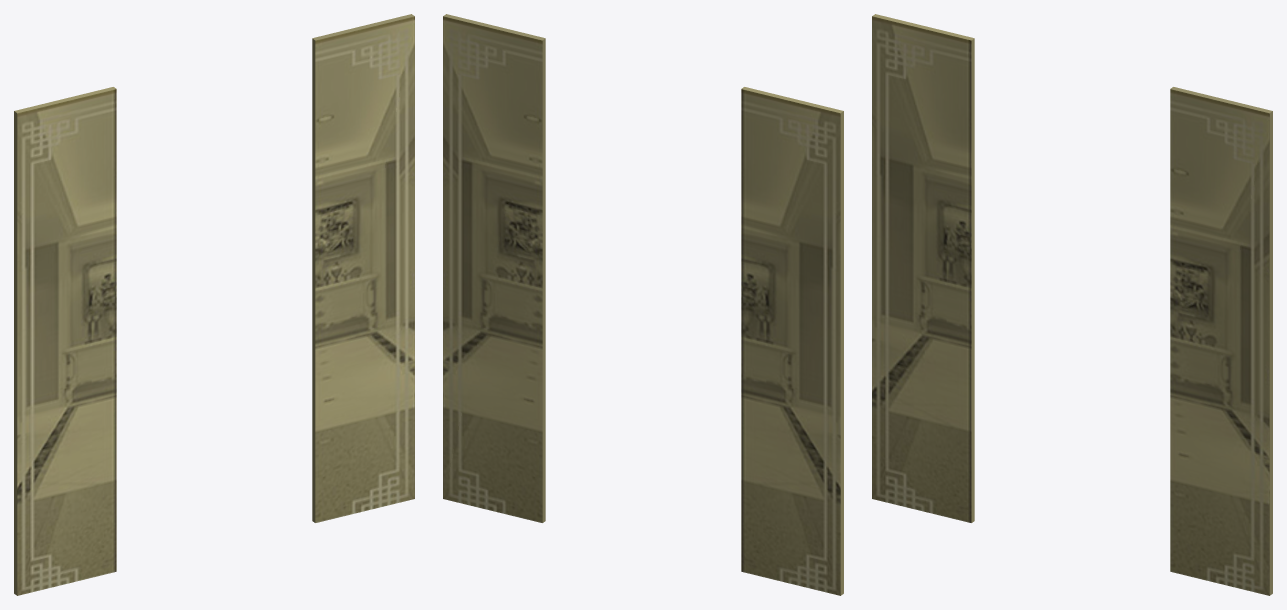
Rendered from landing_door_TM026.glb.
3 views of the same model, side by side, from view 1: azimuth 30°, elevation 25°; view 2: azimuth 150°, elevation 25°; view 3: azimuth 330°, elevation 25° (orthographic).
Visible parts, largest first — view 1: Landing_Door_L, Landing_Door_R; view 2: Landing_Door_L, Landing_Door_R; view 3: Landing_Door_L, Landing_Door_R.
Boxes of the visible parts, x1=… form: Landing_Door_L: x1=14, y1=87, x2=116, y2=595; Landing_Door_R: x1=312, y1=14, x2=414, y2=522; Landing_Door_L: x1=741, y1=87, x2=843, y2=595; Landing_Door_R: x1=443, y1=14, x2=545, y2=522; Landing_Door_L: x1=872, y1=14, x2=974, y2=522; Landing_Door_R: x1=1170, y1=87, x2=1272, y2=595.
Bounding box in the file's own units: 1.81 × 2.1 × 0.025.
1 material, 1 textured.
